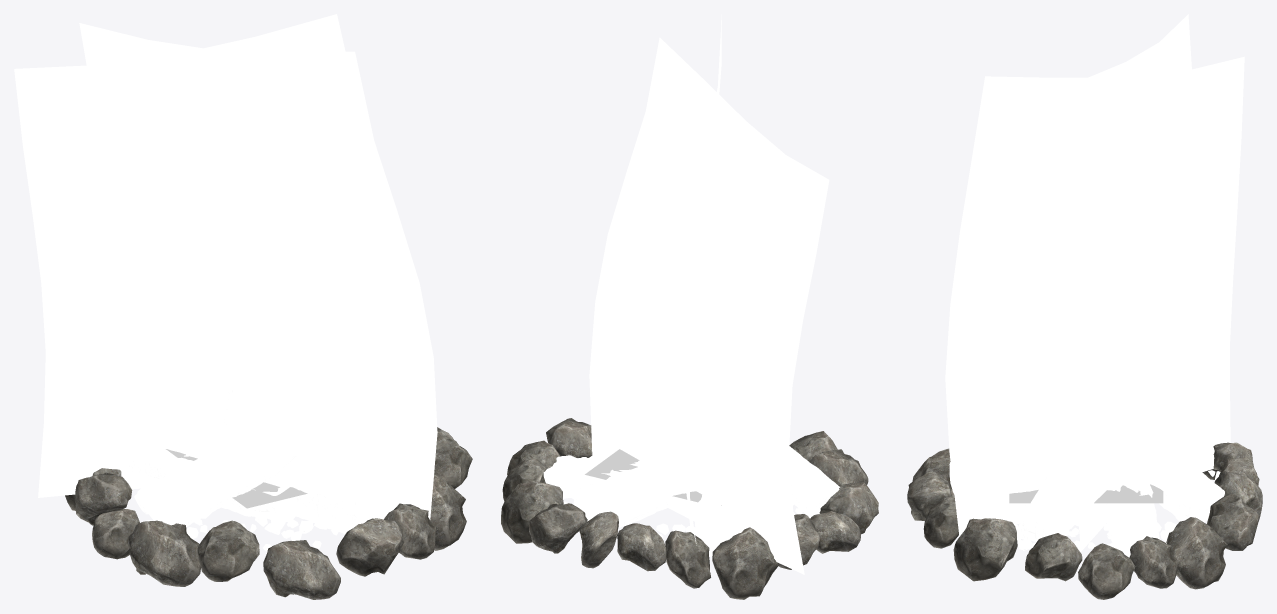
File: Campfire.glb
3 views of the same model, side by side, from view 1: azimuth 30°, elevation 25°; view 2: azimuth 150°, elevation 25°; view 3: azimuth 270°, elevation 25° (orthographic). The views are drawn at different scales.
Visible parts, largest first — view 1: FirePlanes, Rocks, Logs, Embers.006, Particle Emitter; view 2: FirePlanes, Rocks, Logs, Particle Emitter; view 3: FirePlanes, Rocks, Logs, Particle Emitter, Embers.006.
Boxes of the visible parts, x1,y1,x2,y2 form: FirePlanes: (14, 14, 437, 519); Rocks: (65, 427, 472, 599); Logs: (127, 385, 401, 534); Embers.006: (145, 512, 338, 551); Particle Emitter: (166, 449, 307, 508); FirePlanes: (589, 14, 829, 574); Rocks: (501, 418, 878, 599); Logs: (543, 441, 840, 556); Particle Emitter: (585, 449, 795, 505); FirePlanes: (945, 14, 1244, 551); Rocks: (907, 442, 1262, 599); Logs: (949, 418, 1224, 557); Particle Emitter: (1009, 484, 1163, 503); Embers.006: (1014, 470, 1220, 555).
Size of the model in its own units: 1.46 by 1.82 by 1.25.
3 materials, 2 textured.
